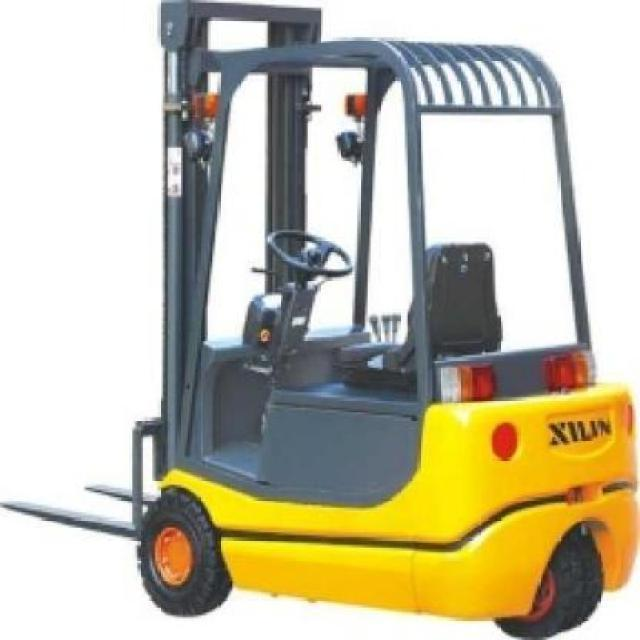forklift: (124, 1, 640, 640)
